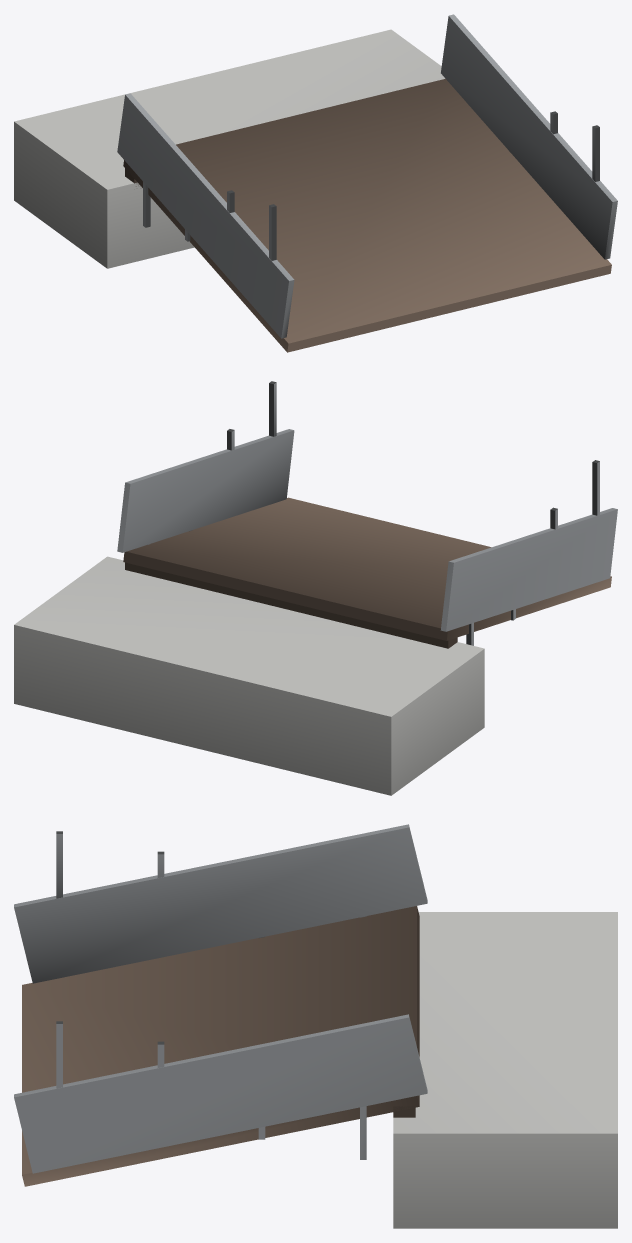
File: ferry_ramp.lod1.glb
3 renders of one model, top to bottom at view 1: azimuth 30°, elevation 25°; view 2: azimuth 150°, elevation 25°; view 3: azimuth 270°, elevation 25°, orthographic. The views are drawn at different scales.
Visible parts, largest first — view 1: props_ferry_ramp.lod1; view 2: props_ferry_ramp.lod1; view 3: props_ferry_ramp.lod1.
Part boxes in pixels (<box>): props_ferry_ramp.lod1: <box>14,14,617,352</box>; props_ferry_ramp.lod1: <box>14,381,617,795</box>; props_ferry_ramp.lod1: <box>14,824,617,1228</box>.
Bounding box in the file's own units: 7 × 2.9 × 8.06.
